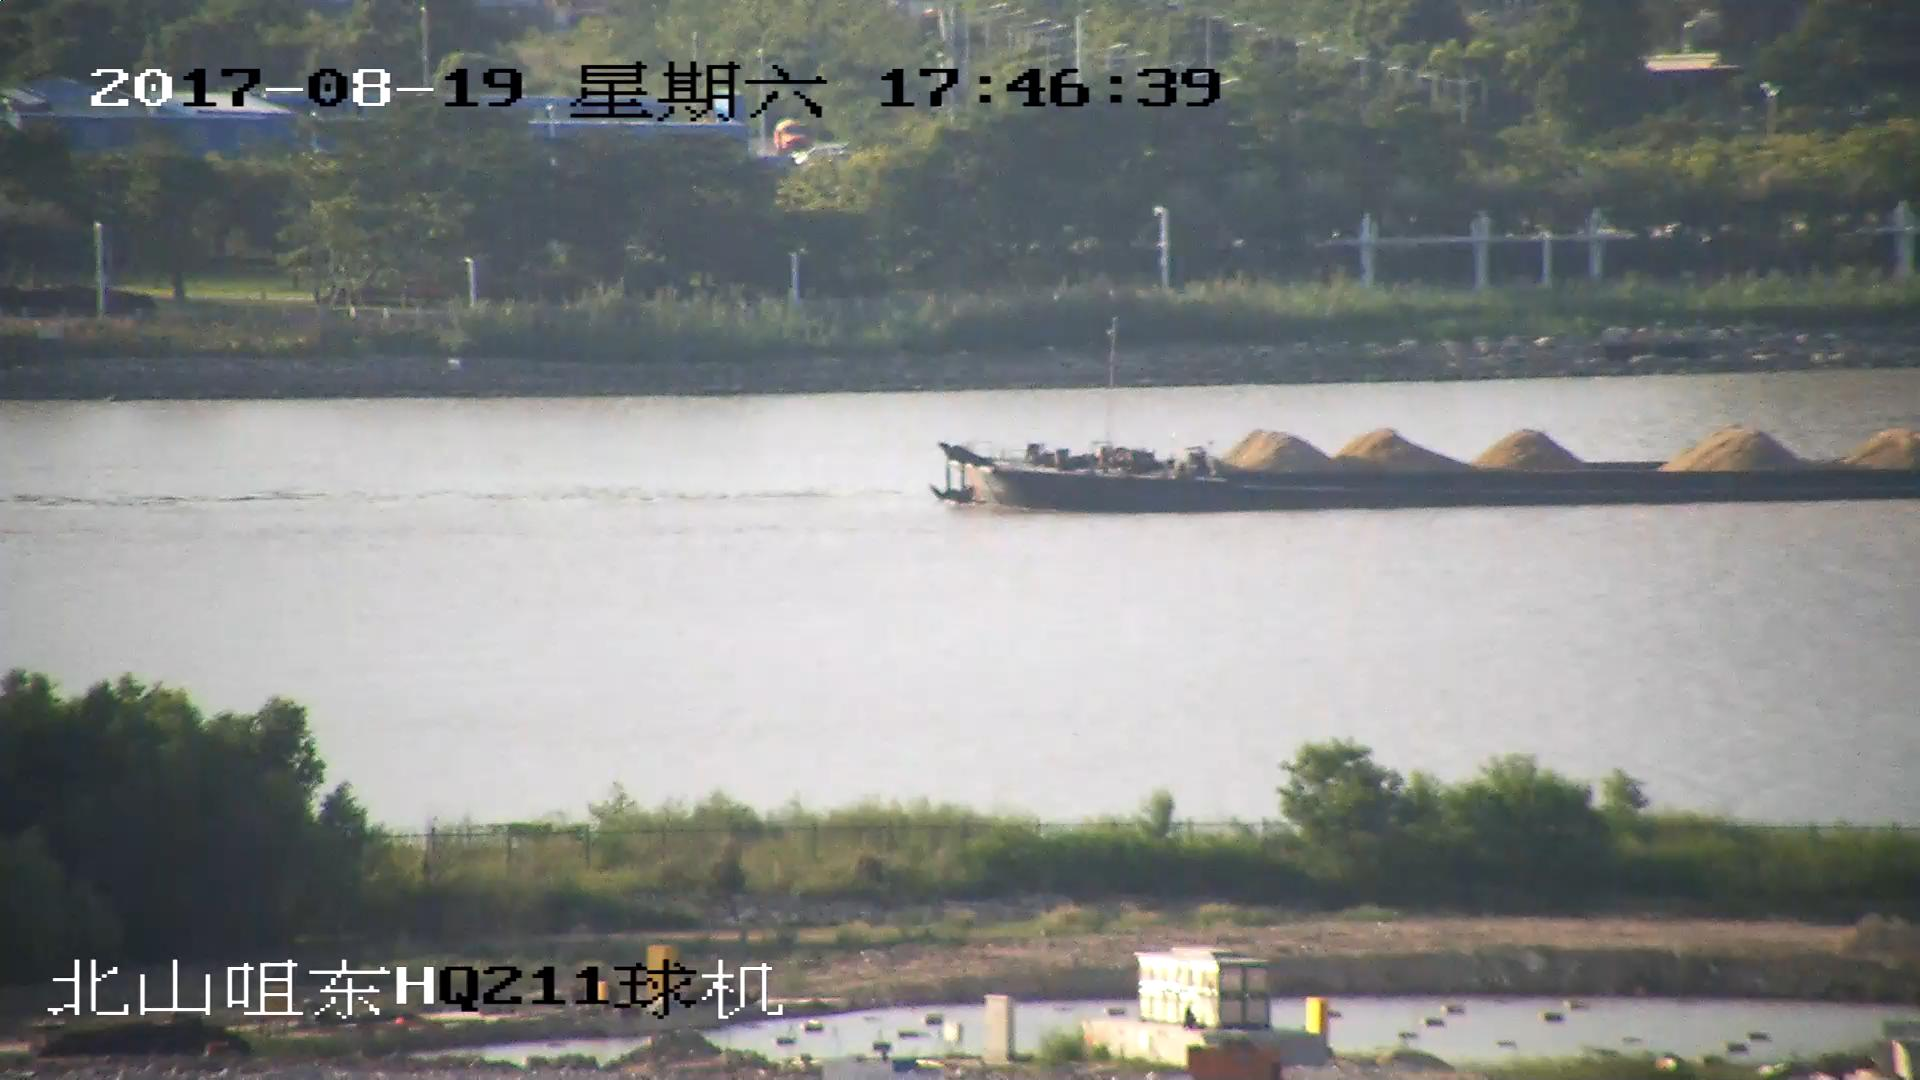ore carrier: (924, 416, 1920, 520)
